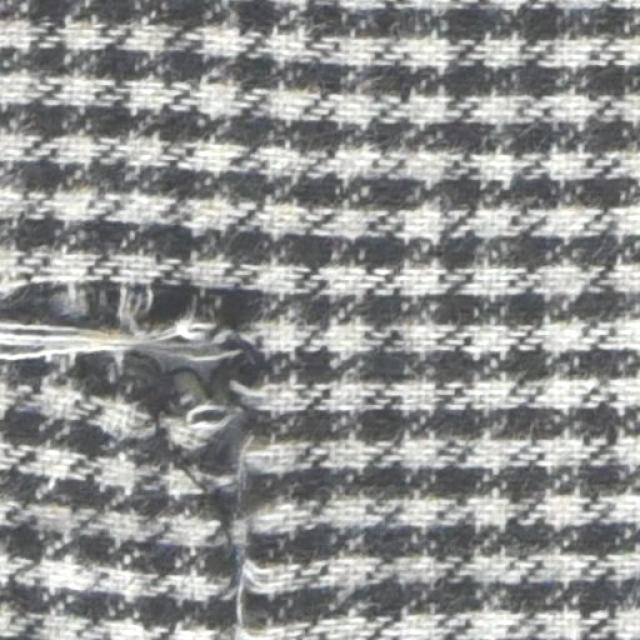Hole: (113, 318, 228, 445)
Snag: (157, 348, 292, 625), (0, 262, 207, 408)
